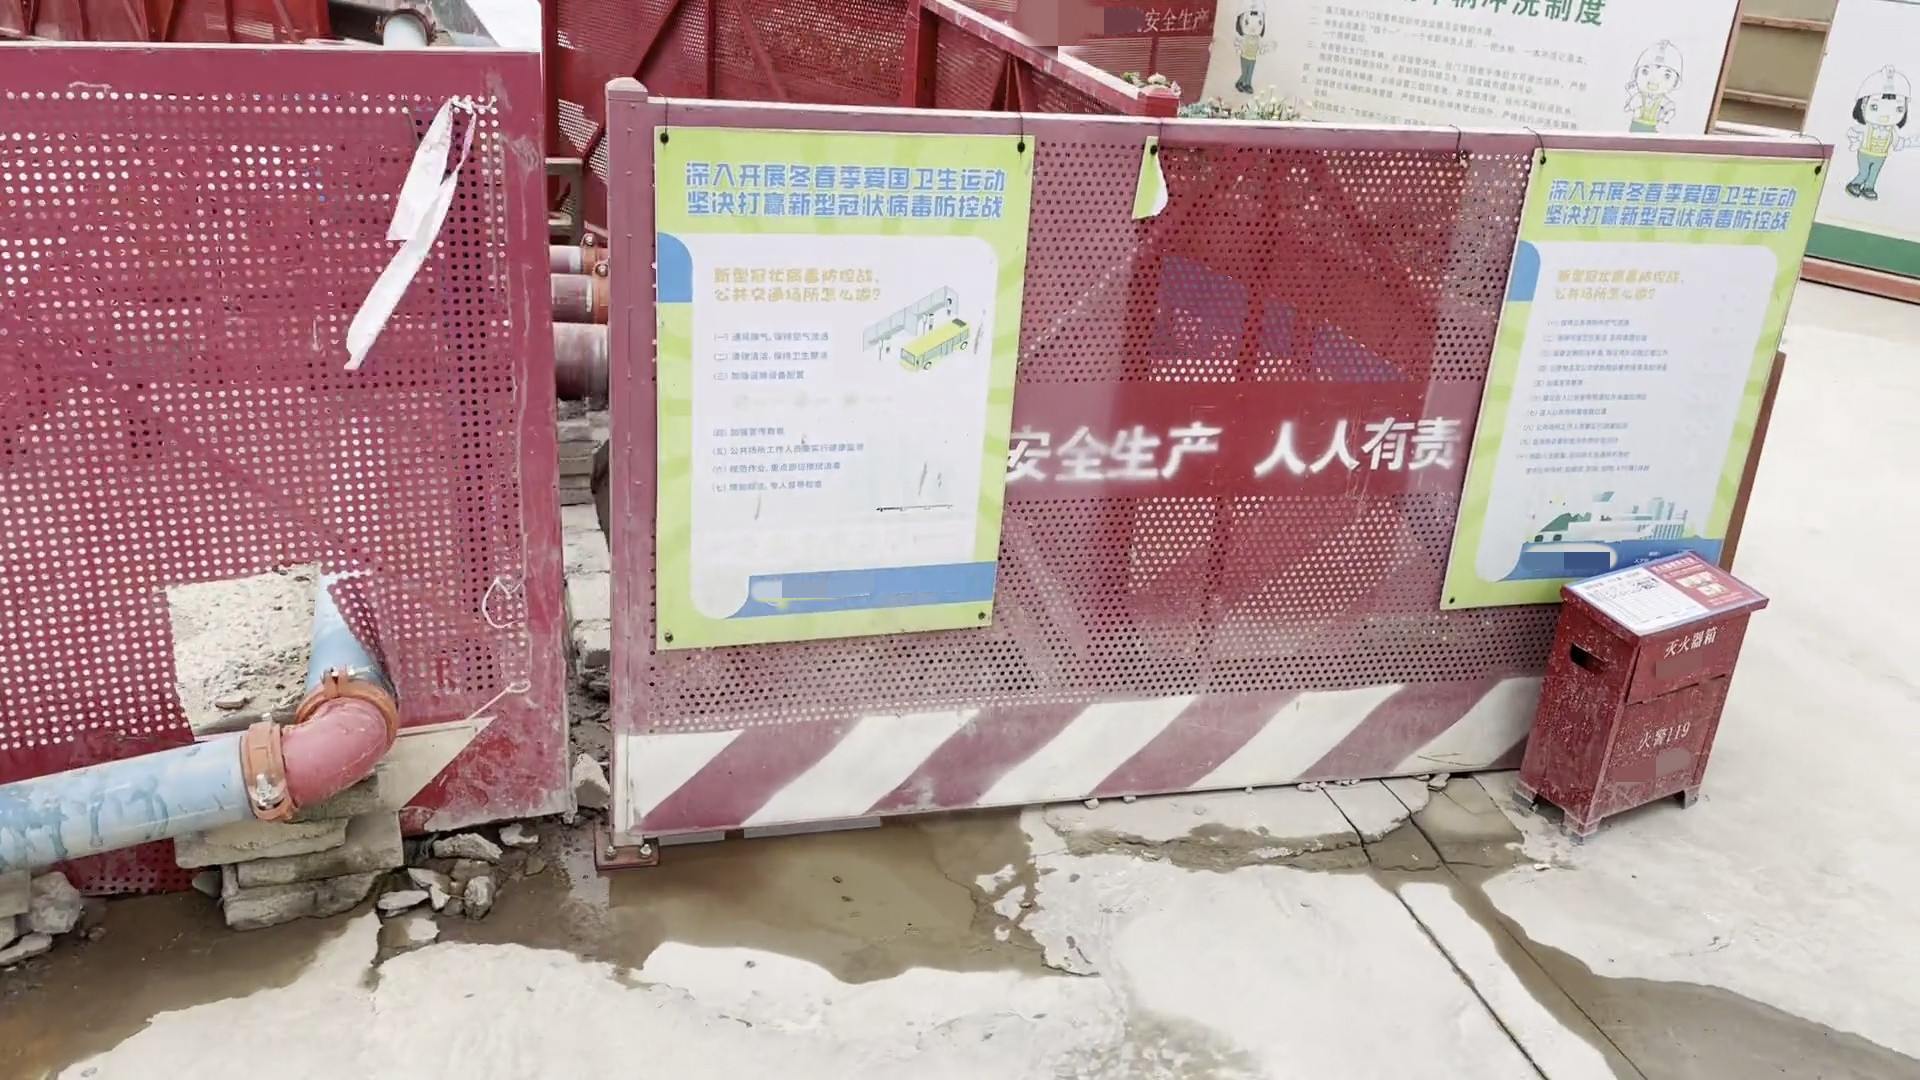fence: (1, 98, 1833, 832)
slogan: (651, 120, 1006, 644), (1485, 148, 1779, 601), (990, 409, 1465, 483)
